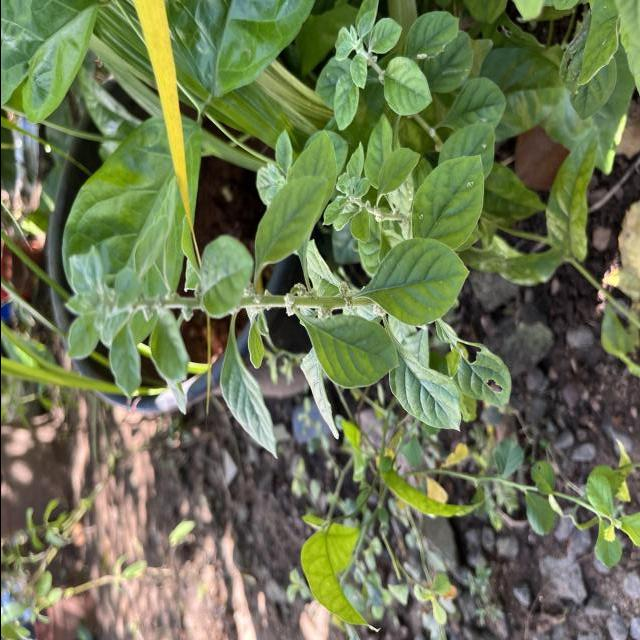Aerva lanata: (356, 234, 471, 329), (408, 150, 486, 252), (386, 340, 462, 436), (380, 55, 433, 119)
